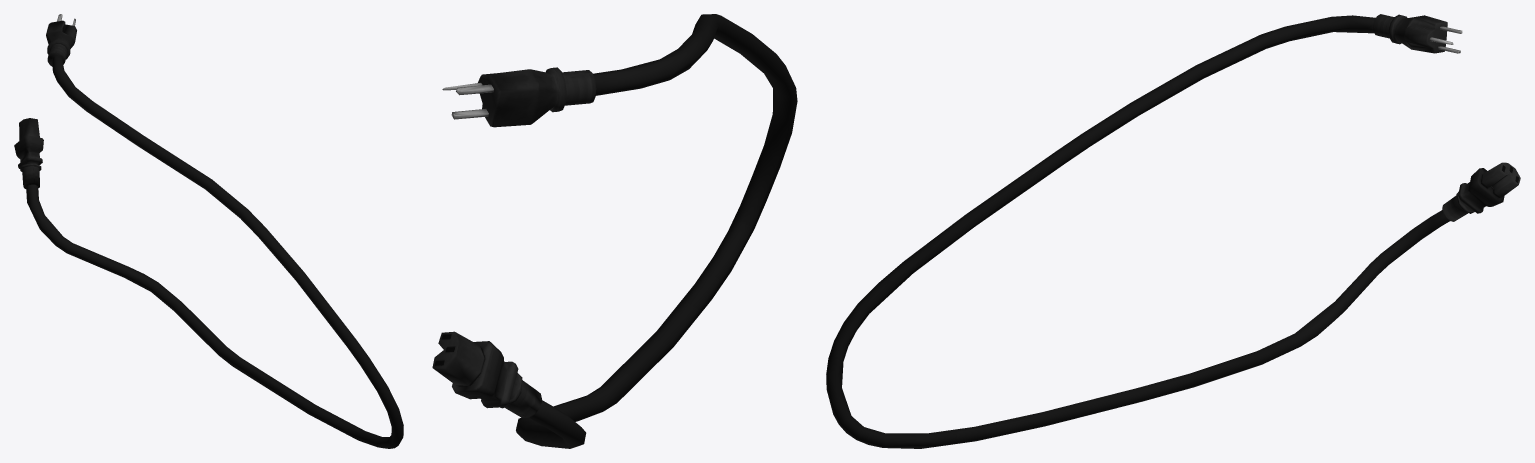
Rendered from wiretool.entity.glb.
3 renders of one model, left to right at view 1: azimuth 30°, elevation 25°; view 2: azimuth 150°, elevation 25°; view 3: azimuth 270°, elevation 25°, orthographic. The views are drawn at different scales.
Visible parts, largest first — view 1: wm_wire_LOD0; view 2: wm_wire_LOD0; view 3: wm_wire_LOD0.
Boxes of the visible parts, x1,y1,x2,y2 form: wm_wire_LOD0: (14, 14, 403, 448); wm_wire_LOD0: (432, 14, 797, 448); wm_wire_LOD0: (826, 14, 1520, 448).
Bounding box in the file's own units: 0.2565 × 0.4749 × 0.8126.
1 material, 1 textured.
